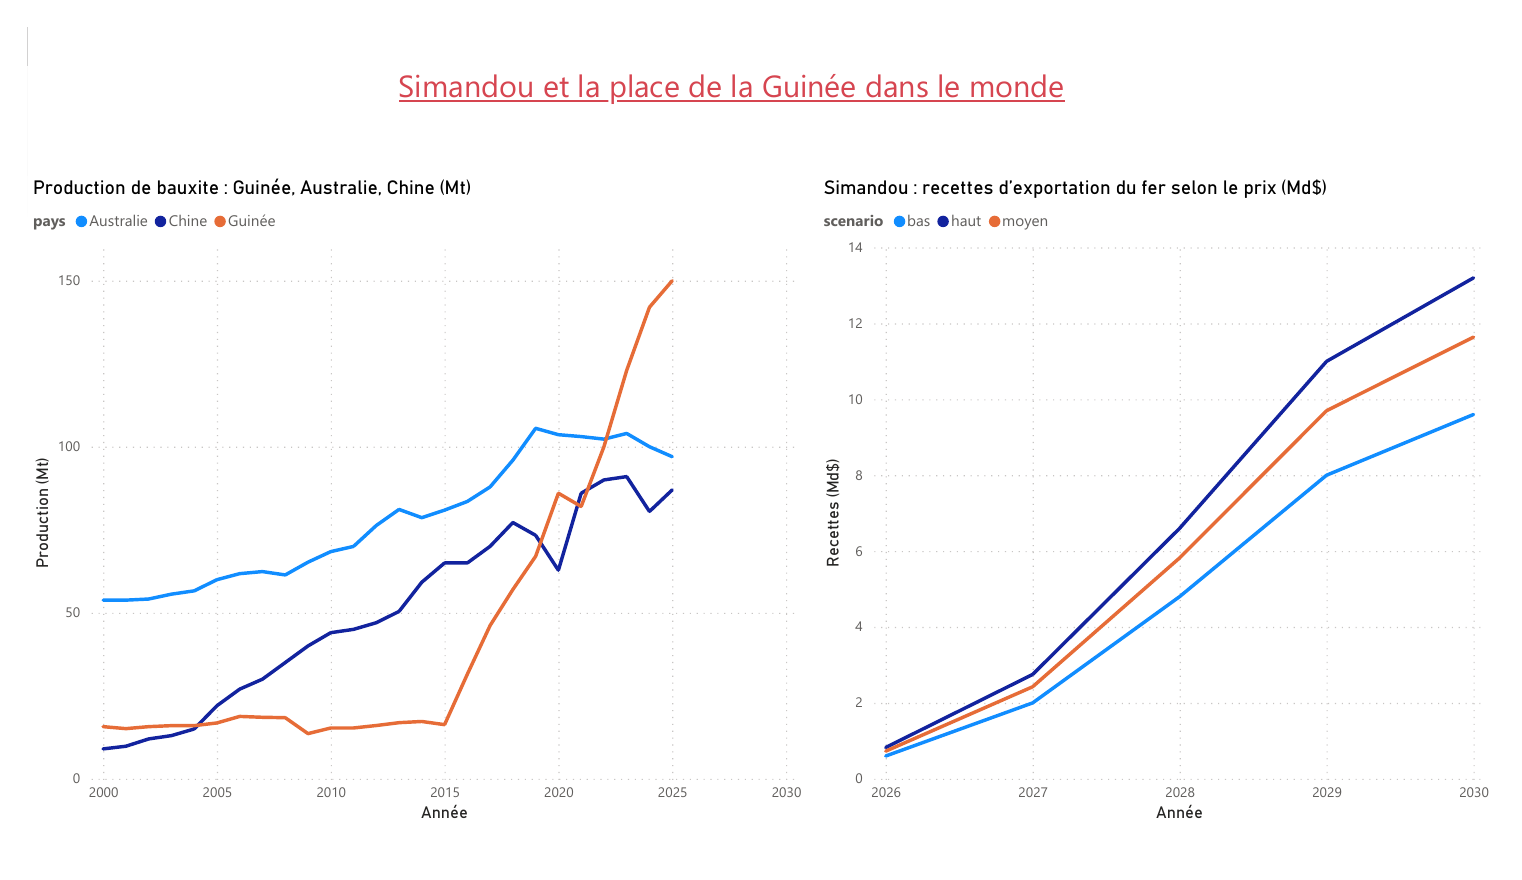

This screenshot's page, from the dashboard's own definition file:
{"tool":"powerbi","page":{"name":"Simandou et le monde","canvas":[1280,720],"ordinal":2},"visuals":[{"type":"lineChart","title":"Production de bauxite : Guinée, Australie, Chine (Mt)","fields":{"Category":["bauxite_monde.annee"],"Y":["Sum(bauxite_monde.production_mt)"],"Series":["bauxite_monde.pays"]},"box":[0,129.8,679.7,569.7],"z":0},{"type":"lineChart","title":"Simandou : recettes d’exportation du fer selon le prix (Md$)","fields":{"Category":["simandou_scenarios.annee"],"Y":["Sum(simandou_scenarios.milliards_usd)"],"Series":["simandou_scenarios.scenario"]},"box":[690.5,129.8,589.5,569.7],"z":1},{"type":"textbox","box":[319.1,27,650.8,70.3],"z":2}]}

Visuals, with their boxes in screenshot pixels (x1, y1, x2, y2), scaled from the page's 1280x720 canvas onto the 1522x880 screenshot:
"Production de bauxite : Guinée, Australie, Chine (Mt)" lineChart: {"x1": 0, "y1": 159, "x2": 808, "y2": 855}
"Simandou : recettes d’exportation du fer selon le prix (Md$)" lineChart: {"x1": 821, "y1": 159, "x2": 1521, "y2": 855}
textbox: {"x1": 379, "y1": 33, "x2": 1153, "y2": 119}
